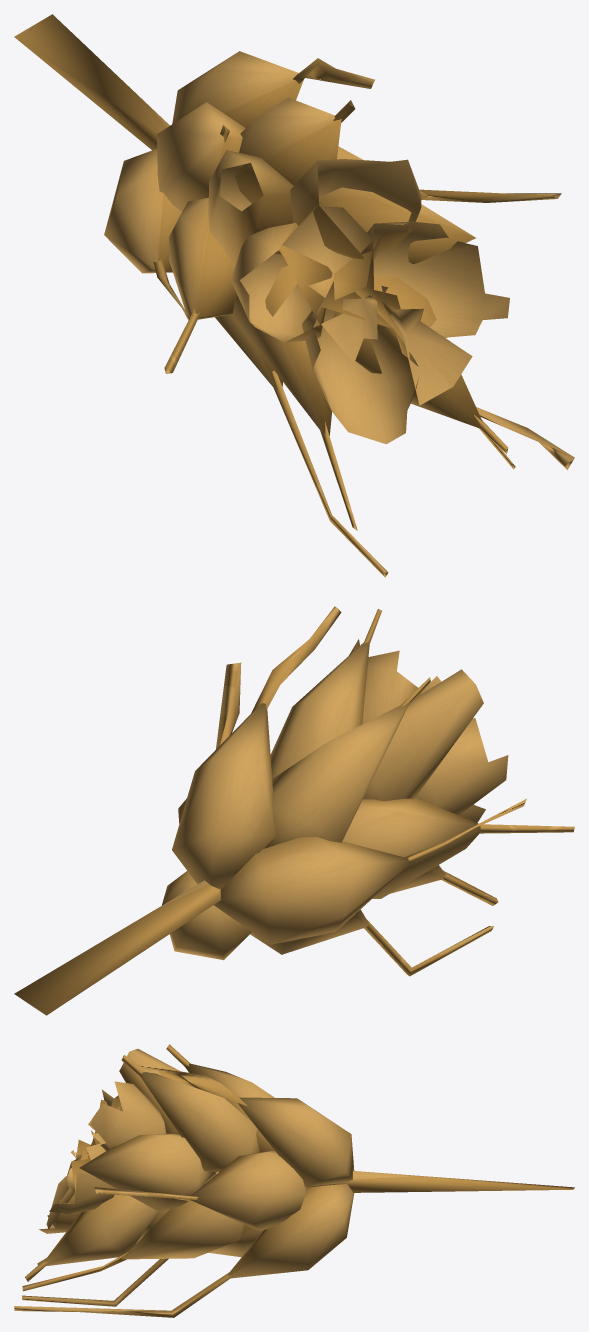
The model's file is unti1tled.fbx.
3 views of the same model, one above another, from view 1: azimuth 30°, elevation 25°; view 2: azimuth 150°, elevation 25°; view 3: azimuth 270°, elevation 25° (orthographic). The views are drawn at different scales.
Visible parts, largest first — view 1: Oats_02; view 2: Oats_02; view 3: Oats_02.
Part boxes in pixels (left/top/right/bottom): Oats_02: left=14, top=14, right=574, bottom=577; Oats_02: left=14, top=606, right=574, bottom=1015; Oats_02: left=14, top=1044, right=574, bottom=1317.
Bounding box in the file's own units: 36.31 × 36.33 × 70.5.
